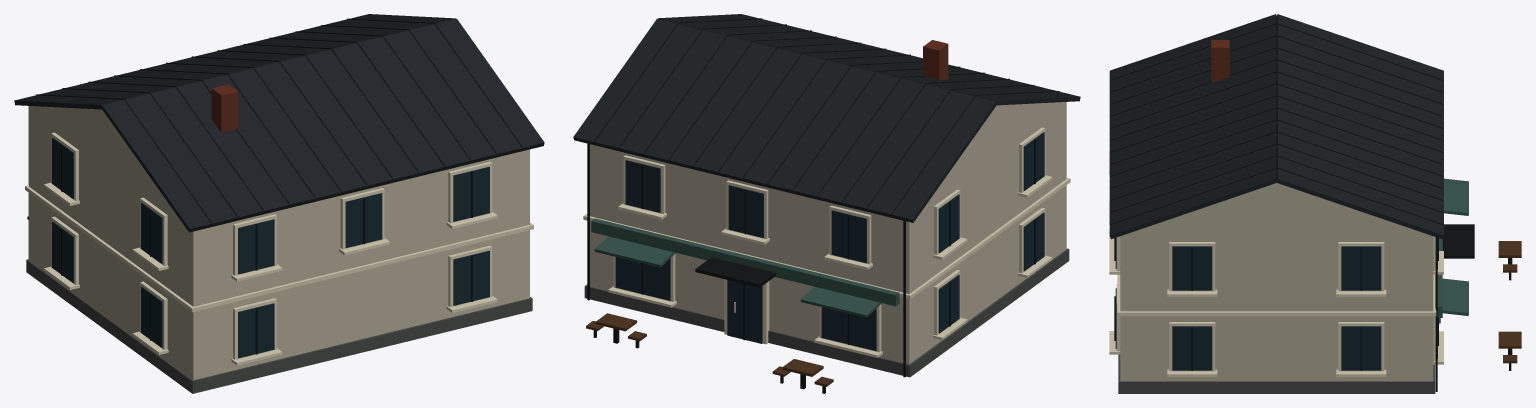
The model's file is 11_Restaurant.obj.
3 views of the same model, side by side, from view 1: azimuth 30°, elevation 25°; view 2: azimuth 150°, elevation 25°; view 3: azimuth 270°, elevation 25° (orthographic). The views are drawn at different scales.
Visible parts, largest first — view 1: Roof, Plaster, Glass, Trim, Base, Metal, Brick; view 2: Roof, Plaster, Glass, Trim, Metal, Awning, Base, Wood, Brick; view 3: Roof, Plaster, Metal, Glass, Trim, Base, Awning, Wood, Brick.
Part boxes in pixels (x1=…): Roof: x1=14, y1=14, x2=544, y2=232; Plaster: x1=29, y1=106, x2=529, y2=380; Glass: x1=52, y1=137, x2=489, y2=358; Trim: x1=25, y1=132, x2=533, y2=365; Base: x1=26, y1=259, x2=532, y2=393; Metal: x1=28, y1=18, x2=522, y2=354; Brick: x1=211, y1=84, x2=238, y2=132; Roof: x1=573, y1=14, x2=1080, y2=222; Plaster: x1=590, y1=102, x2=1066, y2=364; Glass: x1=615, y1=132, x2=1044, y2=350; Trim: x1=583, y1=127, x2=1070, y2=357; Metal: x1=587, y1=18, x2=1059, y2=393; Awning: x1=591, y1=218, x2=899, y2=317; Base: x1=584, y1=248, x2=1069, y2=377; Wood: x1=586, y1=313, x2=833, y2=386; Brick: x1=923, y1=40, x2=948, y2=79; Roof: x1=1109, y1=14, x2=1443, y2=239; Plaster: x1=1120, y1=183, x2=1433, y2=381; Metal: x1=1110, y1=23, x2=1512, y2=391; Glass: x1=1115, y1=237, x2=1440, y2=370; Trim: x1=1109, y1=151, x2=1443, y2=376; Base: x1=1118, y1=354, x2=1435, y2=393; Awning: x1=1435, y1=178, x2=1468, y2=317; Wood: x1=1498, y1=241, x2=1521, y2=363; Brick: x1=1211, y1=40, x2=1229, y2=82.
Size of the model in its own units: 13.76 by 9 by 14.48.
